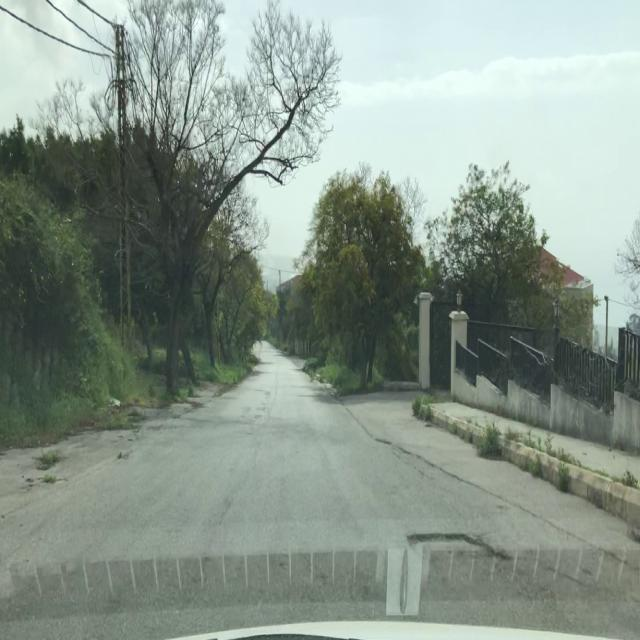Pothole: (404, 528, 512, 570)
